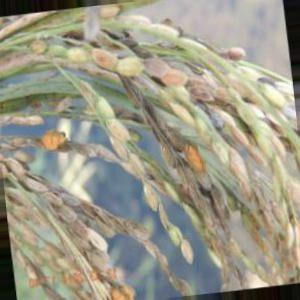Leaf_Scald: (159, 61, 195, 98), (180, 138, 210, 178), (41, 128, 72, 156)
